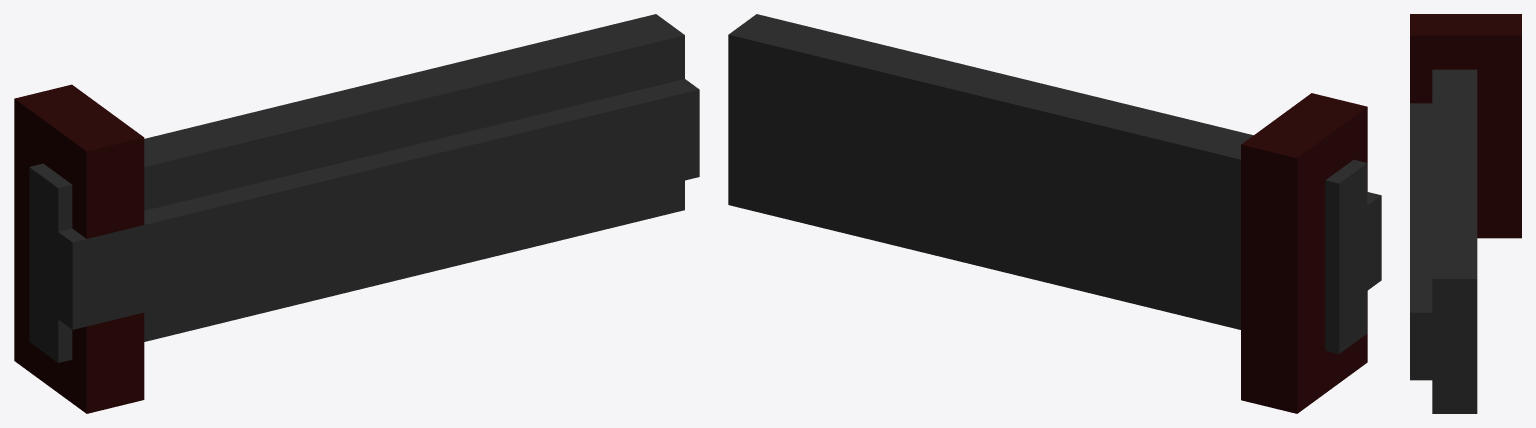
File: SettingSliders_LP.fbx
3 views of the same model, side by side, from view 1: azimuth 30°, elevation 25°; view 2: azimuth 150°, elevation 25°; view 3: azimuth 270°, elevation 25° (orthographic). The views are drawn at different scales.
Parts seen in each view (by area): view 1: Box, Slider; view 2: Box, Slider; view 3: Box, Slider.
Part boxes in pixels (x1=…): Box: x1=29, y1=14, x2=699, y2=362; Slider: x1=14, y1=84, x2=144, y2=413; Box: x1=728, y1=14, x2=1381, y2=353; Slider: x1=1241, y1=93, x2=1367, y2=413; Box: x1=1410, y1=69, x2=1477, y2=413; Slider: x1=1410, y1=14, x2=1521, y2=238.
Bounding box in the file's own units: 230 × 91.96 × 45.98.
